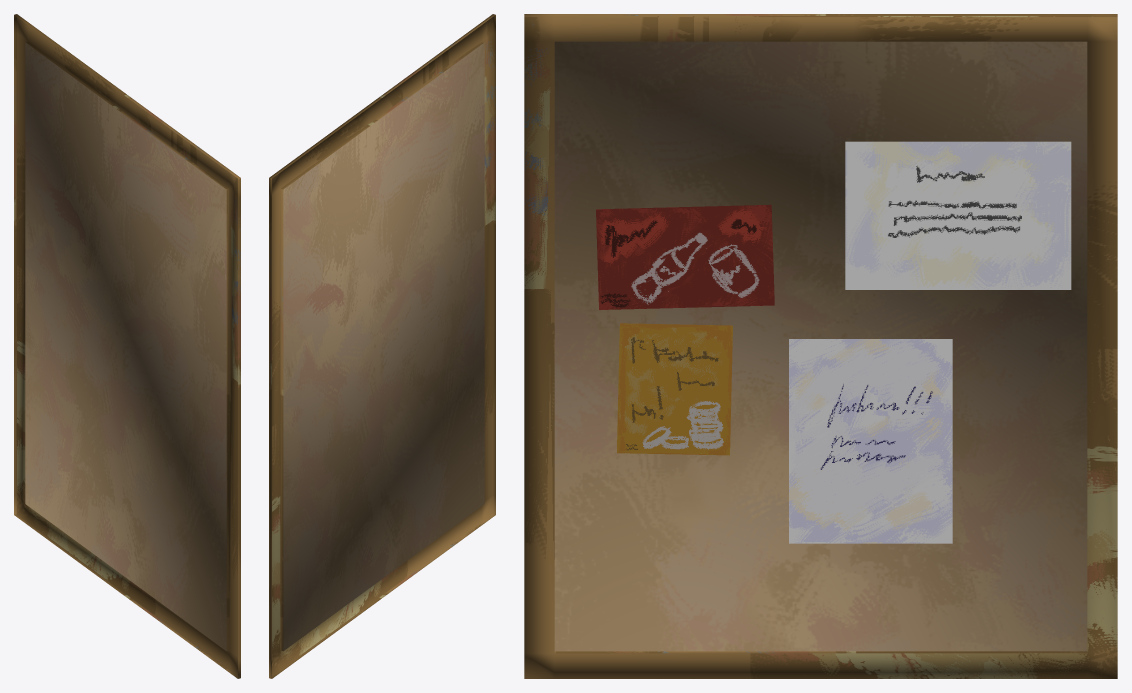
File: bulletinBoard.fbx
The picture shows the model from 3 angles, left to right: view 1: azimuth 30°, elevation 25°; view 2: azimuth 150°, elevation 25°; view 3: azimuth 270°, elevation 25°; orthographic projection. The views are drawn at different scales.
Visible parts, largest first — view 1: bulletinBoard; view 2: bulletinBoard; view 3: bulletinBoard, bulletinBoardPaper3, bulletinBoardPaper3.001, bulletinBoardPaper2, bulletinBoardPaper.
Part boxes in pixels (x1,y1,x2,y2): bulletinBoard: (14, 14, 240, 678); bulletinBoard: (269, 14, 495, 678); bulletinBoard: (524, 14, 1117, 678); bulletinBoardPaper3: (845, 141, 1071, 289); bulletinBoardPaper3.001: (789, 339, 952, 543); bulletinBoardPaper2: (596, 204, 774, 309); bulletinBoardPaper: (617, 323, 732, 455).
Bounding box in the file's own units: 0.5867 × 93.87 × 76.12.
Materials: 6 (6 with a texture image).
